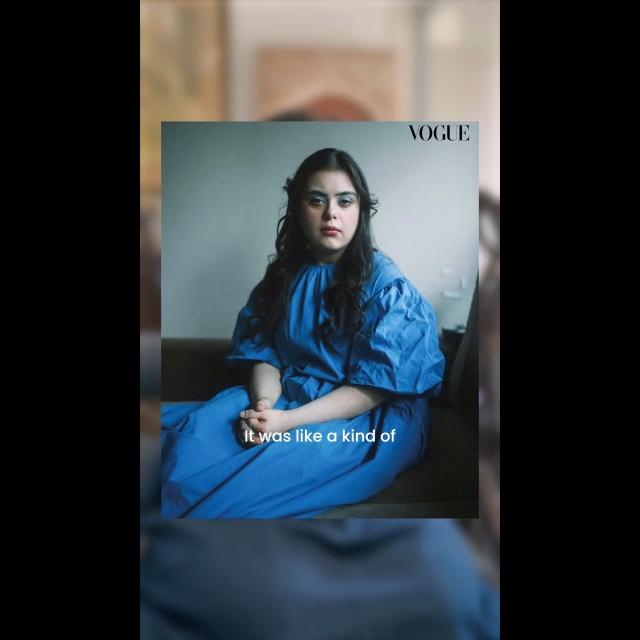dress: (165, 257, 419, 525)
